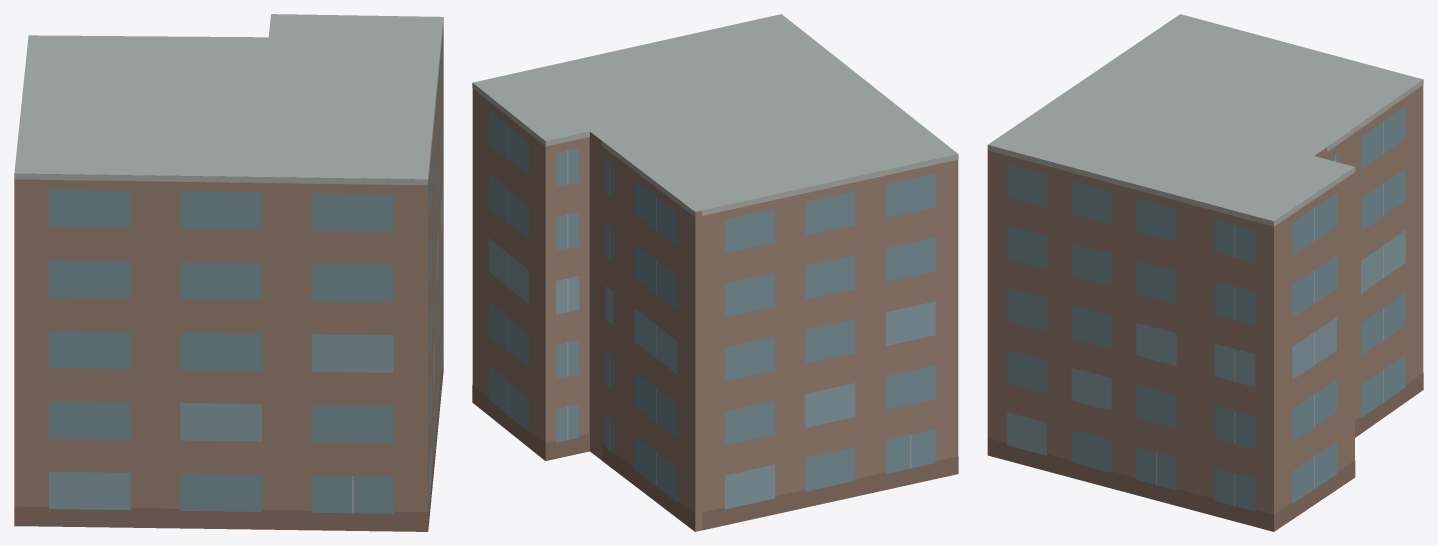
Rendered from survey-upis-32746023.glb.
3 renders of one model, left to right at view 1: azimuth 30°, elevation 25°; view 2: azimuth 150°, elevation 25°; view 3: azimuth 270°, elevation 25°, orthographic. The views are drawn at different scales.
Parts seen in each view (by area): view 1: survey-upis-32746023.tmp; view 2: survey-upis-32746023.tmp; view 3: survey-upis-32746023.tmp.
Boxes of the visible parts, x1,y1,x2,y2 form: survey-upis-32746023.tmp: (14,14,443,531); survey-upis-32746023.tmp: (472,14,958,531); survey-upis-32746023.tmp: (987,14,1423,531).
Bounding box in the file's own units: 20.56 × 14.35 × 18.26.
